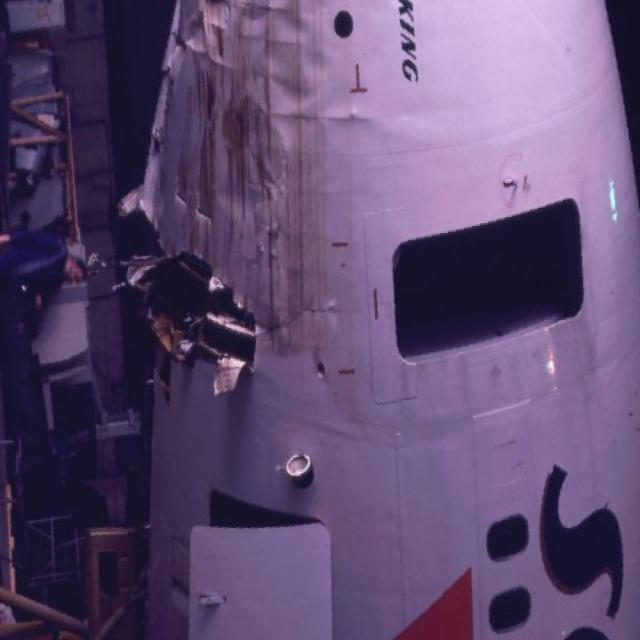crack: (253, 293, 352, 343)
dent: (217, 10, 325, 209), (381, 94, 448, 142)
